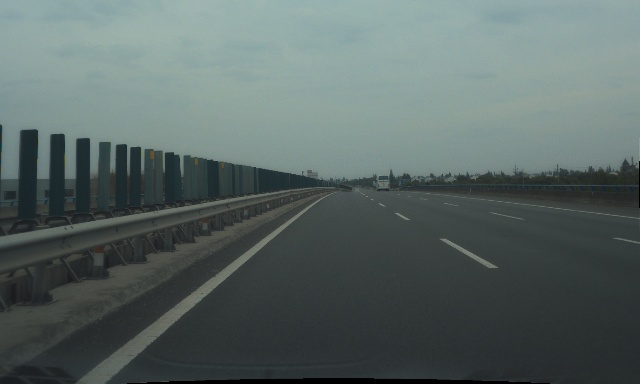bus: (375, 174, 389, 192)
